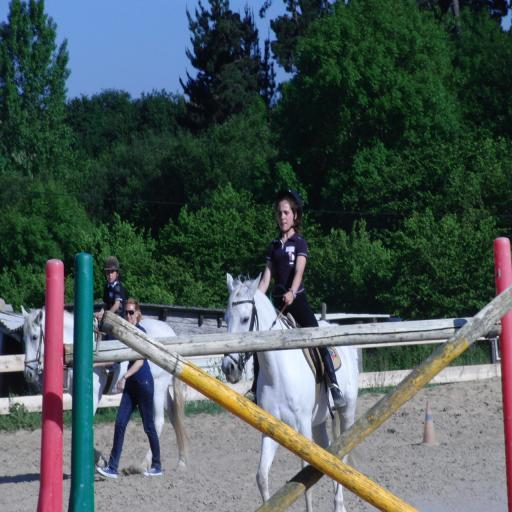horse: (220, 270, 360, 512), (19, 306, 192, 470)
